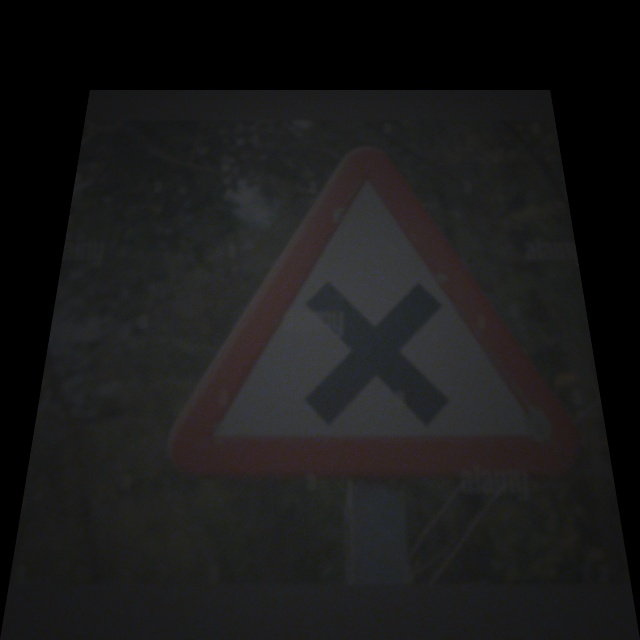Cross_Road: (173, 146, 584, 476)
